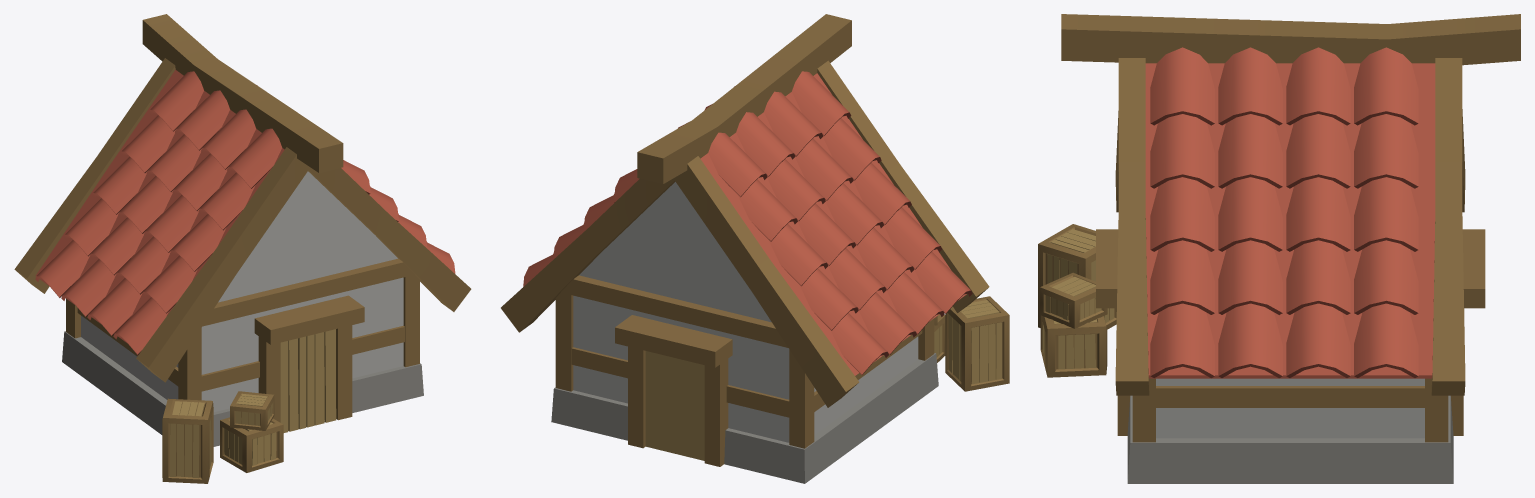
Rendered from quaternius-real-time-strategy-houses-second-age-1-level-1.glb.
3 views of the same model, side by side, from view 1: azimuth 30°, elevation 25°; view 2: azimuth 150°, elevation 25°; view 3: azimuth 270°, elevation 25° (orthographic). The views are drawn at different scales.
Parts seen in each view (by area): view 1: Houses_SecondAge_1_Level1; view 2: Houses_SecondAge_1_Level1; view 3: Houses_SecondAge_1_Level1.
Part boxes in pixels (x1,y1,x2,y2): Houses_SecondAge_1_Level1: (14,14,471,483); Houses_SecondAge_1_Level1: (501,14,1009,483); Houses_SecondAge_1_Level1: (1038,14,1520,483).
Size of the model in its own units: 0.89 by 0.7722 by 0.8644.
Materials: 1 (1 with a texture image).
